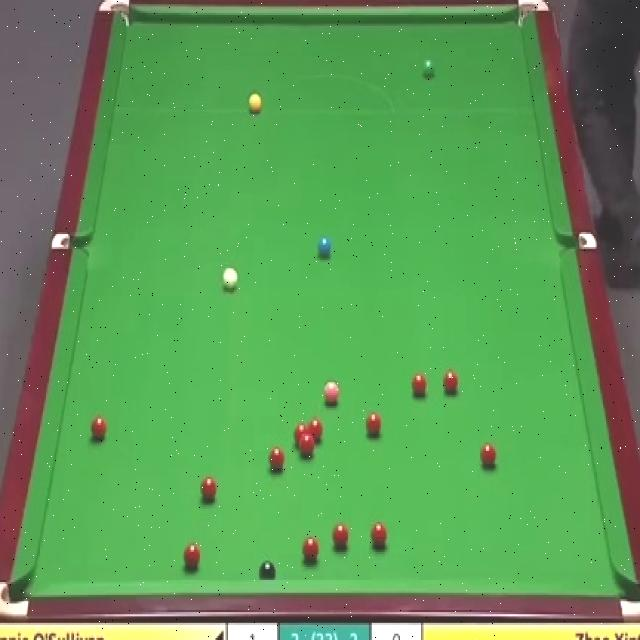black-ball: (258, 562, 276, 578)
blue-ball: (316, 235, 331, 258)
green-ball: (422, 56, 434, 76)
pink-ball: (321, 380, 341, 404)
red-ball: (478, 442, 498, 470), (182, 541, 202, 568), (199, 475, 219, 502), (268, 444, 286, 473), (301, 535, 319, 562), (332, 523, 349, 551), (299, 432, 315, 461), (306, 417, 324, 442), (442, 368, 458, 396), (89, 417, 107, 440), (366, 411, 382, 436), (371, 523, 388, 546), (412, 374, 428, 396), (295, 423, 309, 448)
white-ball: (220, 266, 238, 295)
yellow-ball: (246, 92, 262, 114)
